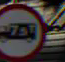Heavy Vehicles: (1, 0, 46, 61)
